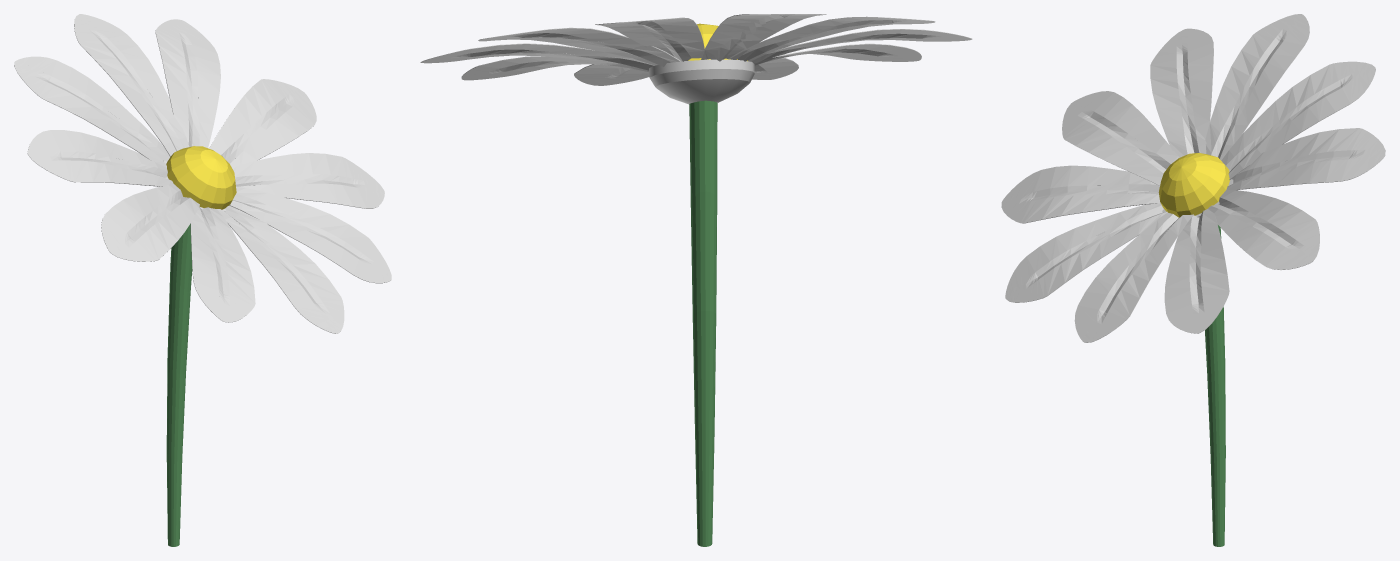
The model's file is eydI4__jXpi.glb.
The picture shows the model from 3 angles, left to right: view 1: azimuth 30°, elevation 25°; view 2: azimuth 150°, elevation 25°; view 3: azimuth 270°, elevation 25°; orthographic projection. The views are drawn at different scales.
Parts seen in each view (by area): view 1: Line30, Stengel_01, Sphere03; view 2: Line30, Stengel_01, Cylinder05; view 3: Line30, Stengel_01, Sphere03.
Boxes of the visible parts, x1=… form: Line30: x1=14, y1=14, x2=391, y2=333; Stengel_01: x1=166, y1=224, x2=192, y2=546; Sphere03: x1=166, y1=146, x2=236, y2=209; Line30: x1=420, y1=14, x2=972, y2=85; Stengel_01: x1=689, y1=100, x2=717, y2=546; Cylinder05: x1=649, y1=59, x2=754, y2=104; Line30: x1=1001, y1=14, x2=1385, y2=342; Stengel_01: x1=1205, y1=225, x2=1225, y2=546; Sphere03: x1=1158, y1=153, x2=1229, y2=217.
Bounding box in the file's own units: 0.793 × 1 × 0.734.
